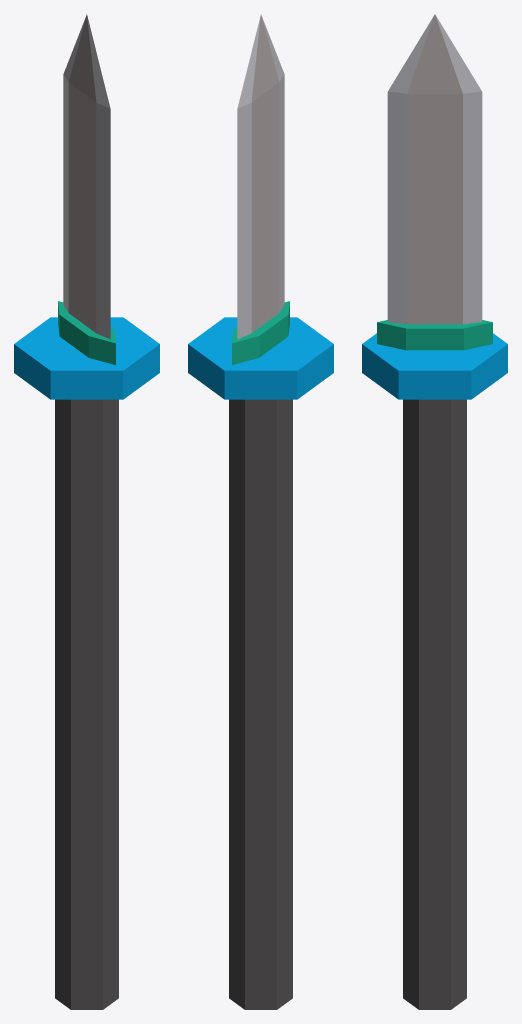
The model's file is neospear.glb.
3 renders of one model, left to right at view 1: azimuth 30°, elevation 25°; view 2: azimuth 150°, elevation 25°; view 3: azimuth 270°, elevation 25°, orthographic.
Visible parts, largest first — view 1: Cylinder; view 2: Cylinder; view 3: Cylinder.
Boxes of the visible parts, x1,y1,x2,y2 form: Cylinder: [14, 14, 159, 1009]; Cylinder: [188, 14, 333, 1009]; Cylinder: [362, 14, 507, 1009].
Size of the model in its own units: 0.238 by 2.05 by 0.2748.
